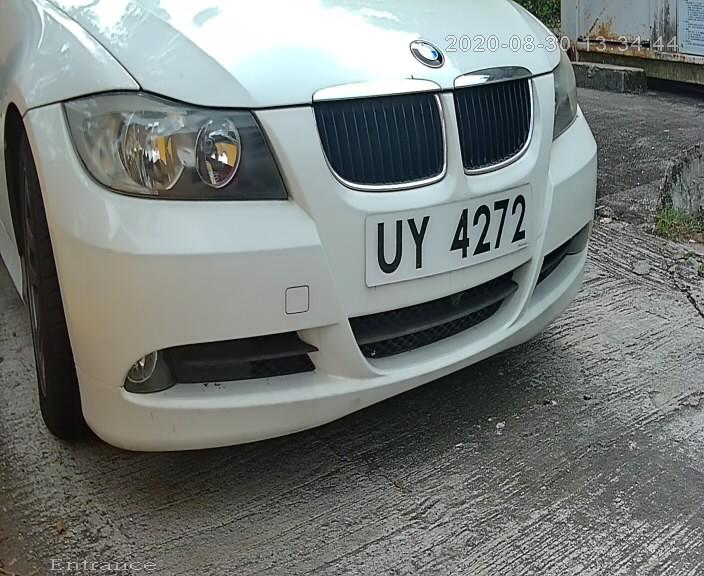License Plate: (375, 175, 544, 296)
